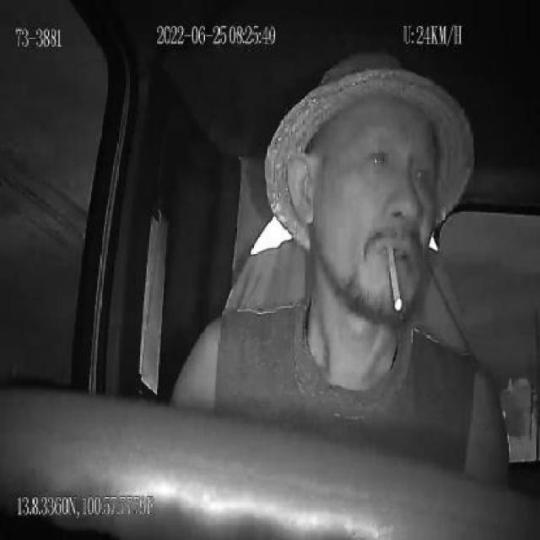smoking: (384, 241, 402, 313)
